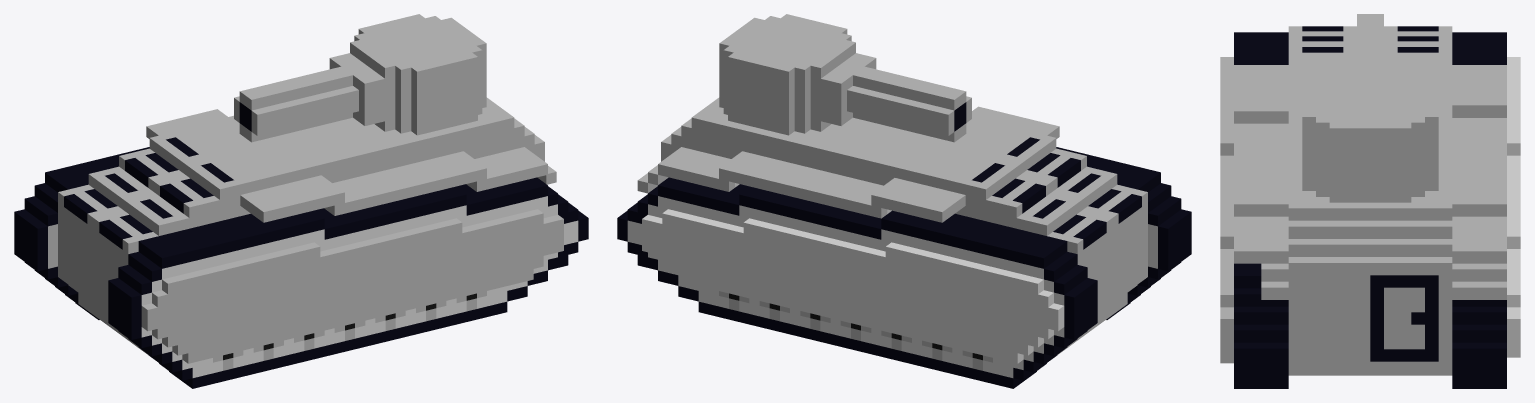
File: leichttraktor.obj
3 views of the same model, side by side, from view 1: azimuth 30°, elevation 25°; view 2: azimuth 150°, elevation 25°; view 3: azimuth 270°, elevation 25° (orthographic). The views are drawn at different scales.
Bounding box in the file's own units: 45 × 22 × 22.
1 material, 1 textured.
